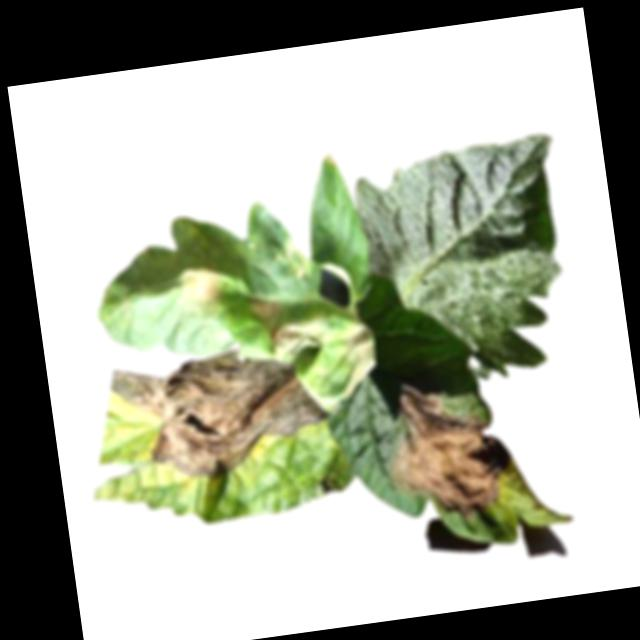Late_blight: (105, 338, 336, 492), (375, 370, 521, 534), (334, 315, 381, 399), (264, 310, 331, 361), (172, 262, 226, 319), (276, 238, 318, 282), (246, 290, 283, 328)
